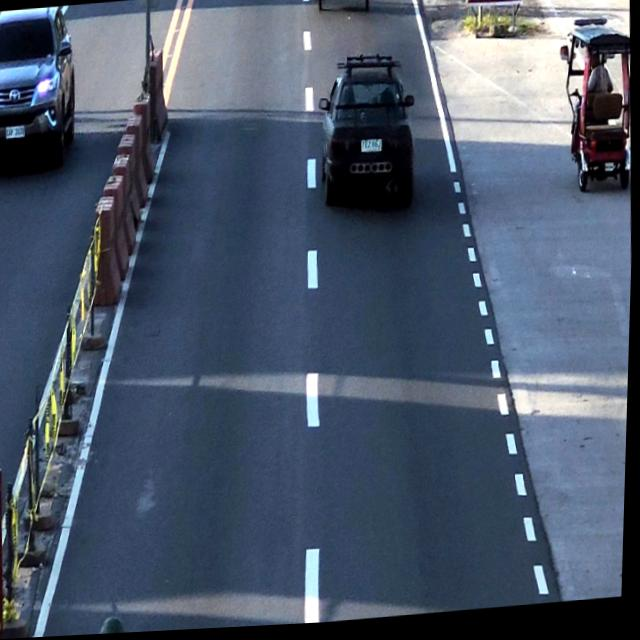Car: (317, 53, 421, 213)
License-Plate: (359, 140, 387, 157)
